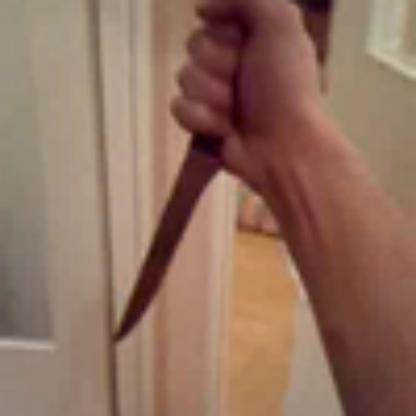knives: (108, 4, 244, 340)
